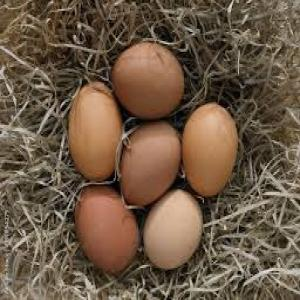Egg: (73, 186, 142, 276), (110, 39, 187, 118), (179, 100, 238, 200), (67, 78, 123, 183), (118, 120, 183, 208), (144, 188, 202, 272)
